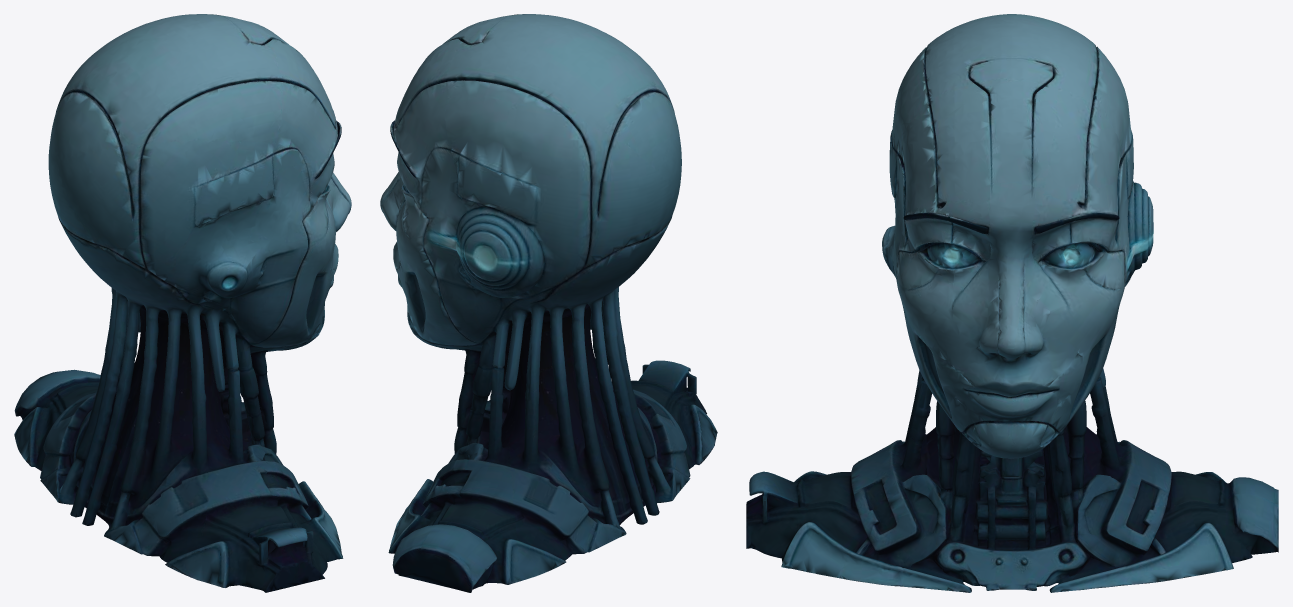
File: robot.glb
The picture shows the model from 3 angles, left to right: view 1: azimuth 30°, elevation 25°; view 2: azimuth 150°, elevation 25°; view 3: azimuth 270°, elevation 25°; orthographic projection. The views are drawn at different scales.
Parts seen in each view (by area): view 1: tripo_node_b69dd3cb-5a16-4a25-973a-20fe39c4f6a1; view 2: tripo_node_b69dd3cb-5a16-4a25-973a-20fe39c4f6a1; view 3: tripo_node_b69dd3cb-5a16-4a25-973a-20fe39c4f6a1.
Part boxes in pixels (x1,y1,x2,y2): tripo_node_b69dd3cb-5a16-4a25-973a-20fe39c4f6a1: (14,14,351,592); tripo_node_b69dd3cb-5a16-4a25-973a-20fe39c4f6a1: (380,14,717,592); tripo_node_b69dd3cb-5a16-4a25-973a-20fe39c4f6a1: (746,14,1278,592).
Bounding box in the file's own units: 0.6423 × 0.9989 × 0.9433.
Materials: 1 (1 with a texture image).
